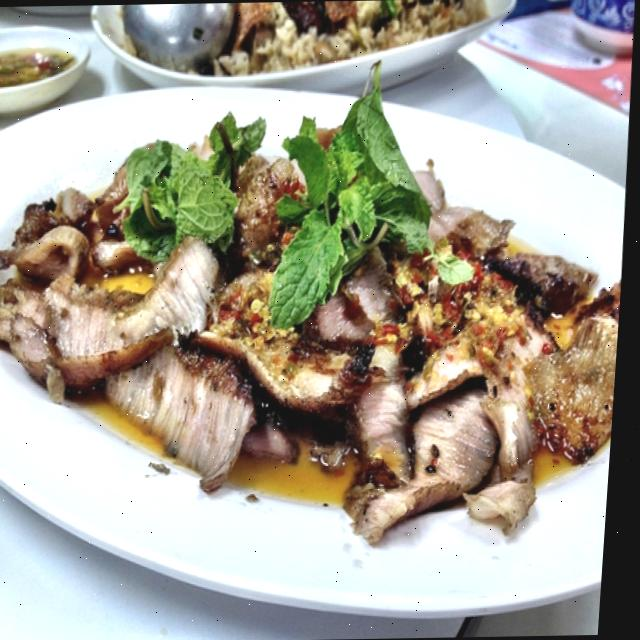猪肉菜式: (0, 82, 636, 607)
